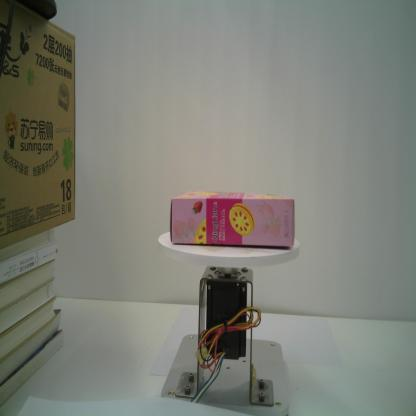Dessert: (168, 189, 298, 250)
